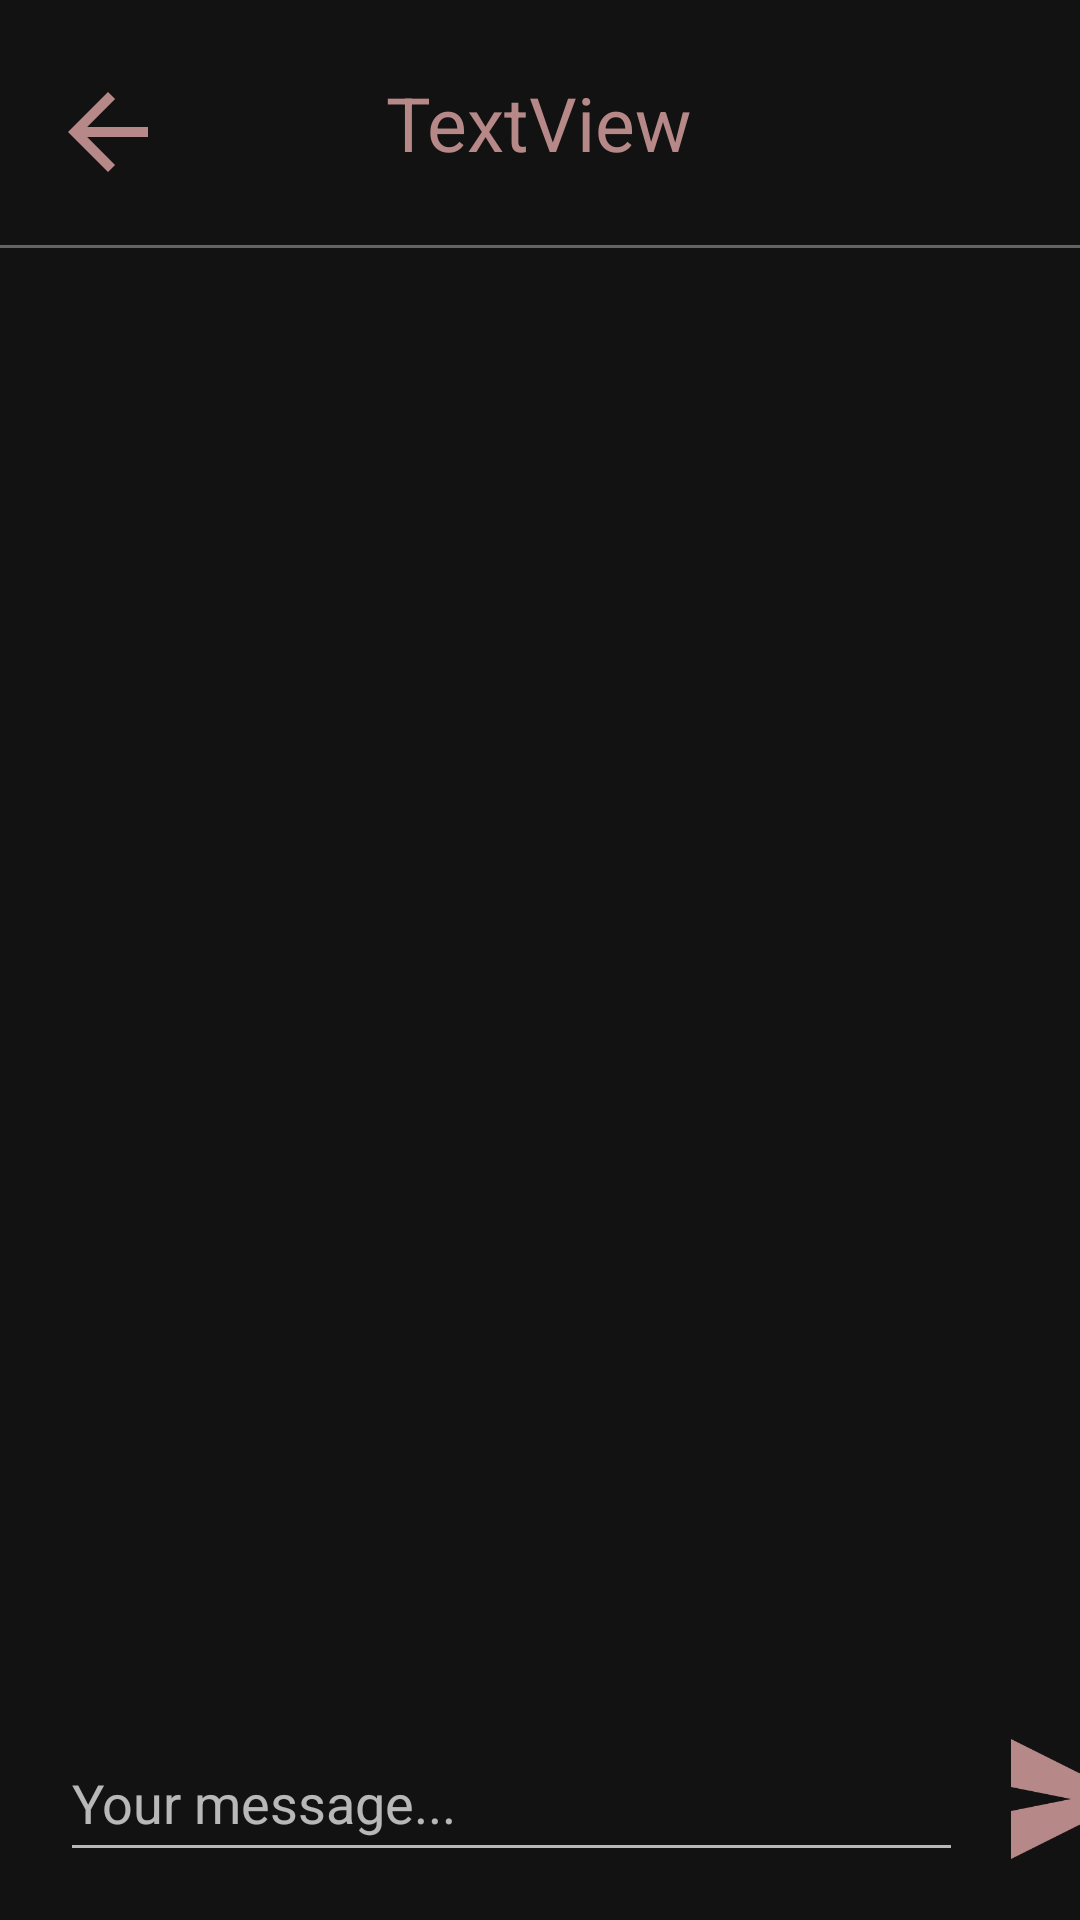

Icon bounding boxes for this 1080px x 1920px phone screenshot, format (x1=x1, y1=y1, x2=x2, y2=y2):
arrow back: (x1=68, y1=92, x2=148, y2=172)
